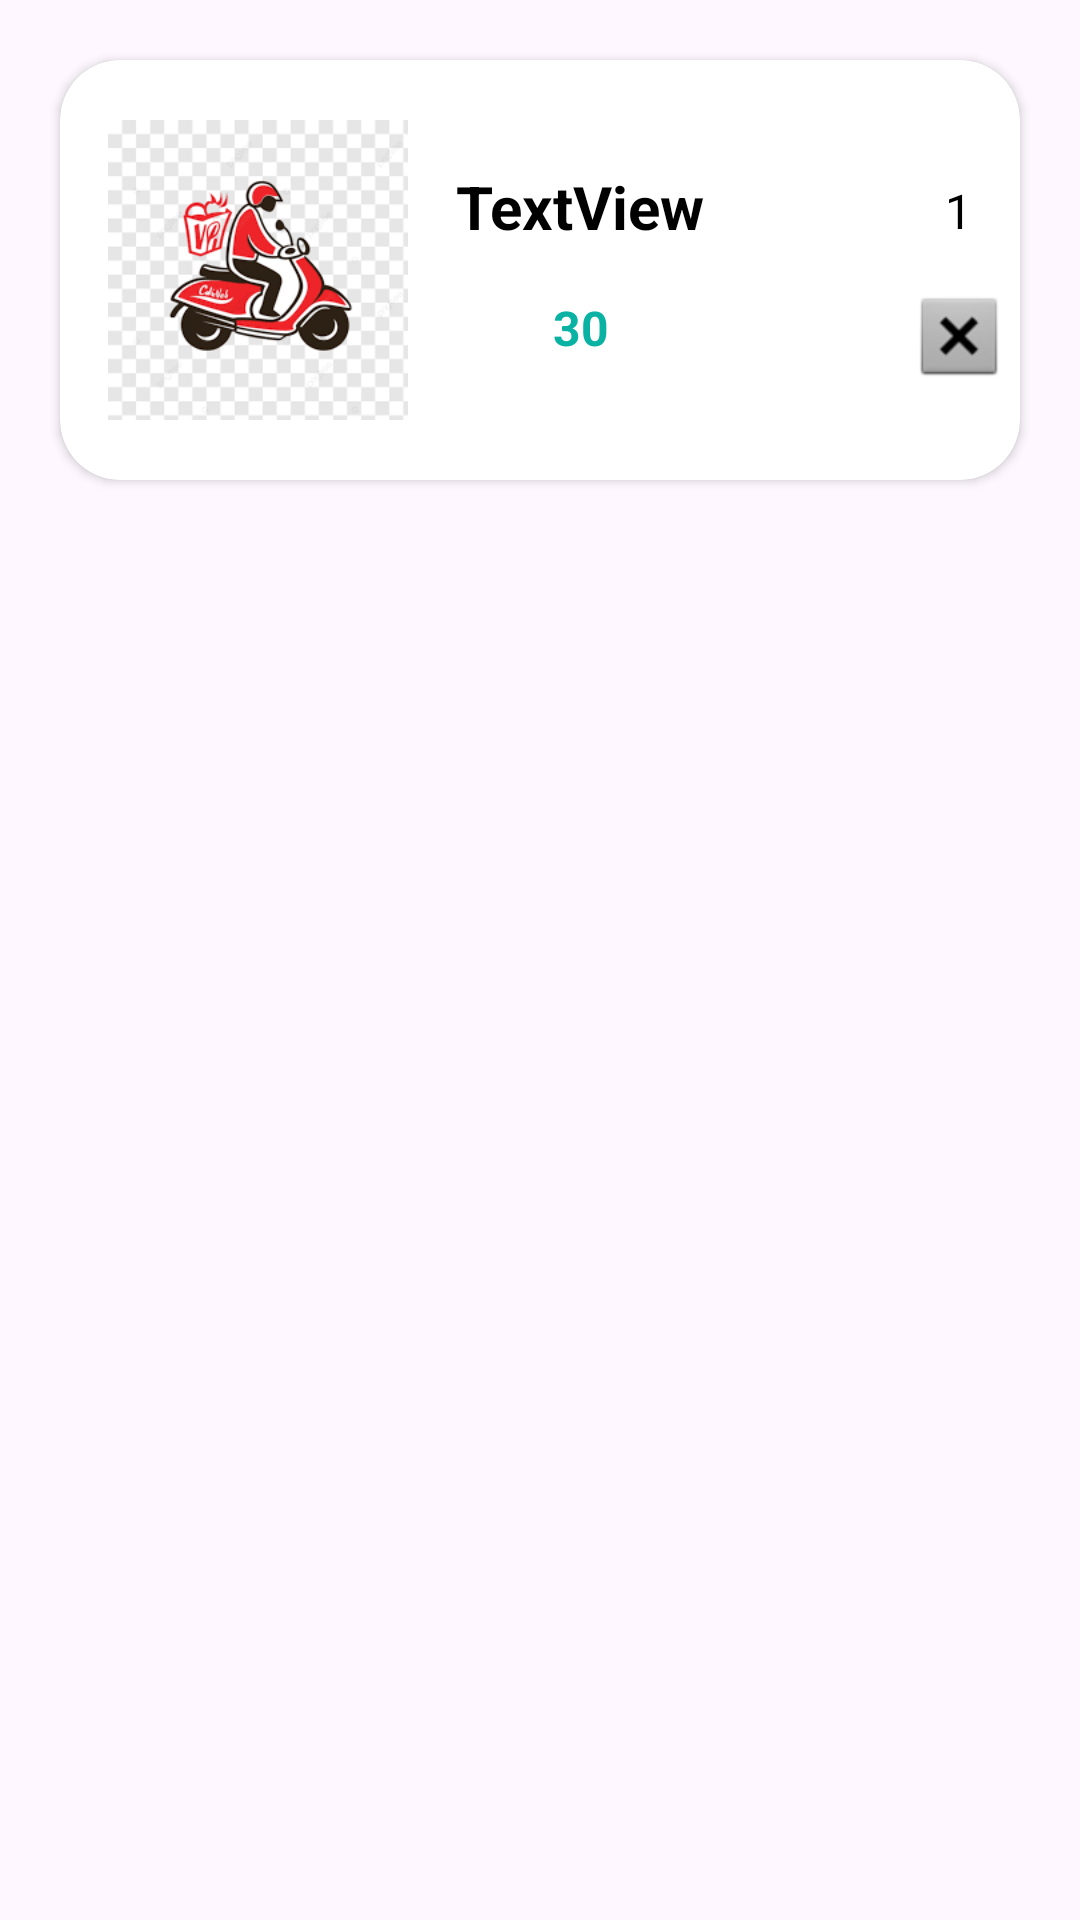

Icon click points for this 1080px×1920px phone screenshot, format point (x, y):
foodicon: point (258, 270)
